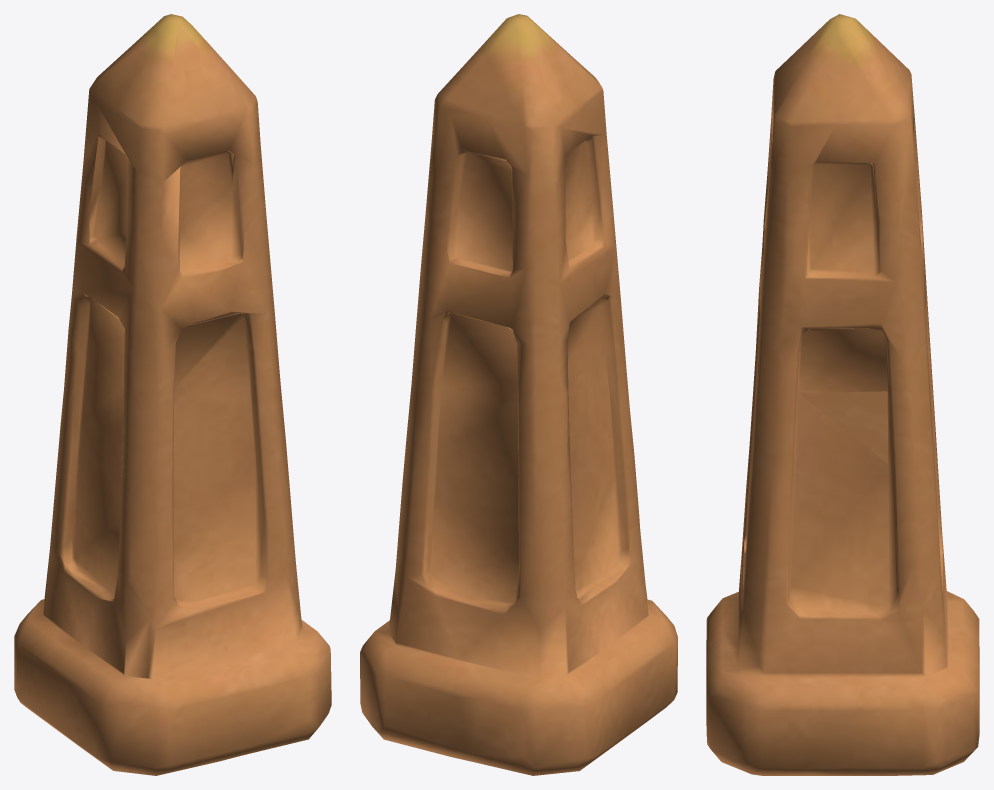
The model's file is lg-desert-obelisk.glb.
3 views of the same model, side by side, from view 1: azimuth 30°, elevation 25°; view 2: azimuth 150°, elevation 25°; view 3: azimuth 270°, elevation 25° (orthographic).
Visible parts, largest first — view 1: geometry_0; view 2: geometry_0; view 3: geometry_0.
Boxes of the visible parts, x1,y1,x2,y2 form: geometry_0: [14, 14, 331, 775]; geometry_0: [360, 14, 677, 775]; geometry_0: [706, 14, 979, 775].
Size of the model in its own units: 0.3478 by 1 by 0.3502.
1 material, 1 textured.
